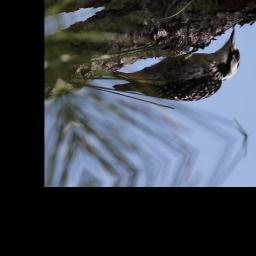Woodpecker: (100, 18, 256, 132)
